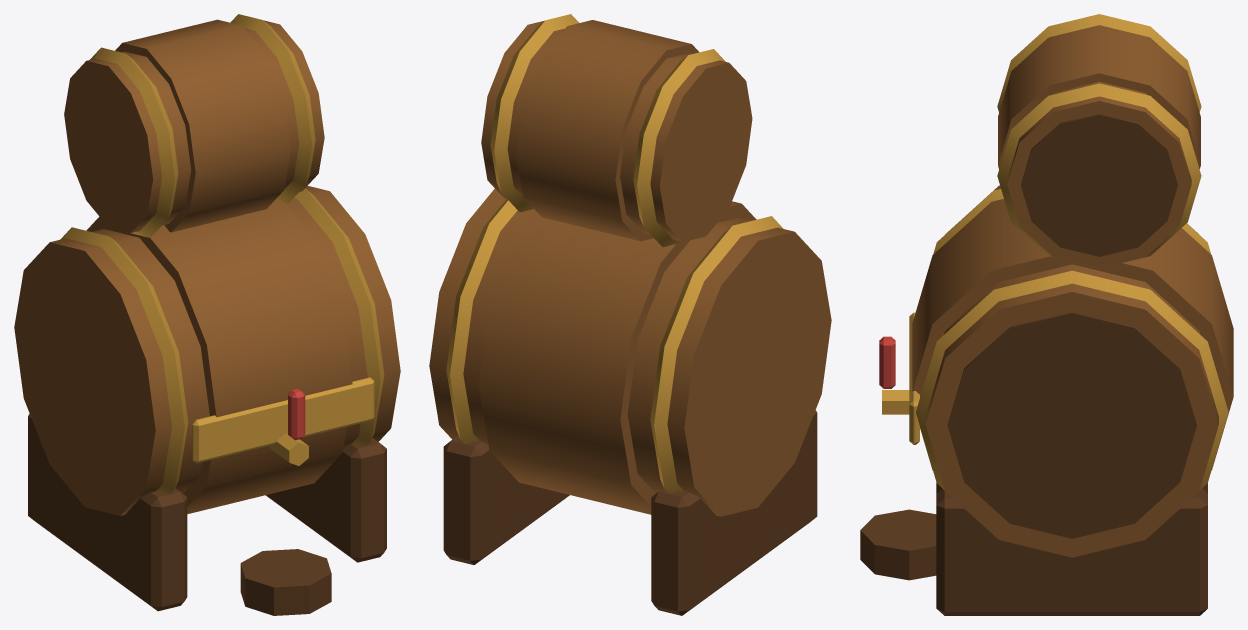
File: PR_Station_Bira_T2.fbx
3 renders of one model, left to right at view 1: azimuth 30°, elevation 25°; view 2: azimuth 150°, elevation 25°; view 3: azimuth 270°, elevation 25°, orthographic. The views are drawn at different scales.
Parts seen in each view (by area): view 1: PR_Station_Bira_T2; view 2: PR_Station_Bira_T2; view 3: PR_Station_Bira_T2.
Boxes of the visible parts, left/top/right/bottom form: PR_Station_Bira_T2: left=14, top=14, right=400, bottom=615; PR_Station_Bira_T2: left=429, top=14, right=831, bottom=615; PR_Station_Bira_T2: left=860, top=14, right=1233, bottom=615.
Bounding box in the file's own units: 0.545 × 1.04 × 0.687.
1 material, 1 textured.
